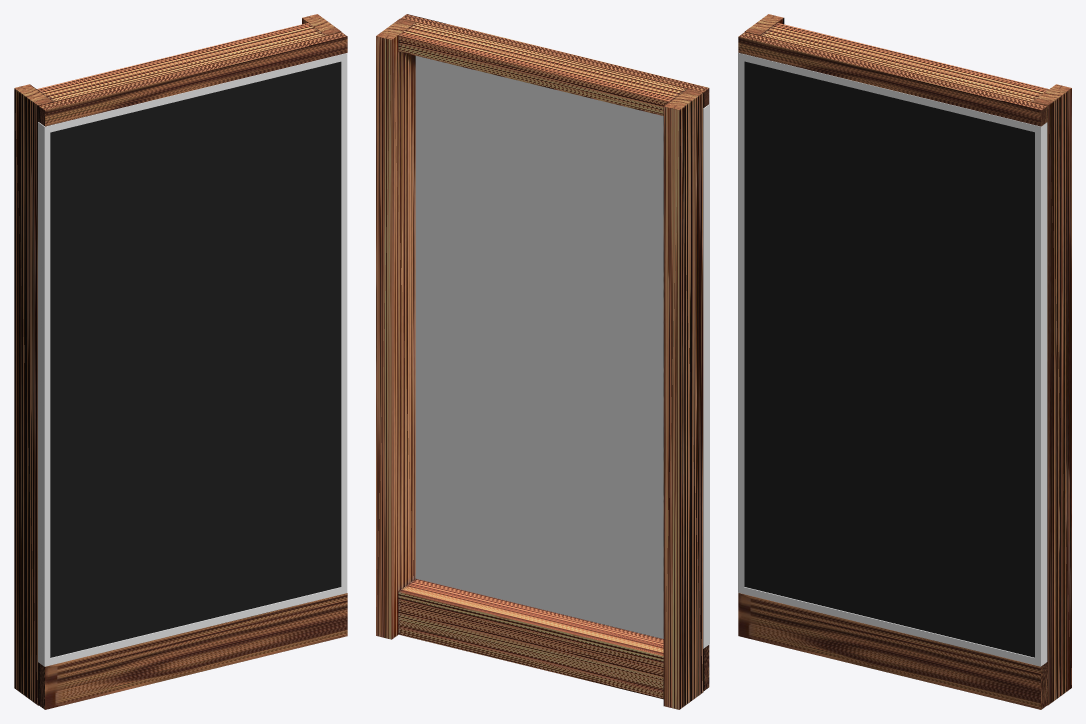
The picture shows the model from 3 angles, left to right: view 1: azimuth 30°, elevation 25°; view 2: azimuth 150°, elevation 25°; view 3: azimuth 330°, elevation 25°; orthographic projection.
Visible parts, largest first — view 1: screen_surface, screen_frame, frame_left, frame_bottom, frame_top; view 2: screen_frame, frame_left, frame_right, frame_bottom, frame_top; view 3: screen_surface, screen_frame, frame_right, frame_bottom, frame_top.
Part boxes in pixels (x1=…): screen_surface: x1=50, y1=61, x2=340, y2=657; screen_frame: x1=38, y1=53, x2=347, y2=666; frame_left: x1=14, y1=84, x2=53, y2=705; frame_bottom: x1=38, y1=593, x2=347, y2=709; frame_top: x1=37, y1=23, x2=347, y2=126; screen_frame: x1=415, y1=56, x2=709, y2=648; frame_left: x1=663, y1=88, x2=703, y2=709; frame_right: x1=376, y1=18, x2=415, y2=639; frame_bottom: x1=398, y1=579, x2=709, y2=699; frame_top: x1=398, y1=14, x2=709, y2=115; screen_surface: x1=744, y1=61, x2=1034, y2=657; screen_frame: x1=738, y1=52, x2=1047, y2=666; frame_right: x1=1032, y1=84, x2=1071, y2=705; frame_bottom: x1=738, y1=593, x2=1047, y2=709; frame_top: x1=738, y1=23, x2=1048, y2=126.
Size of the model in its own units: 5.41 by 10.23 by 0.9427.
3 materials, 1 textured.
